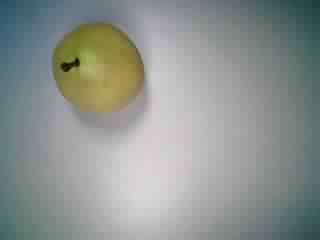pear: (41, 17, 151, 120)
